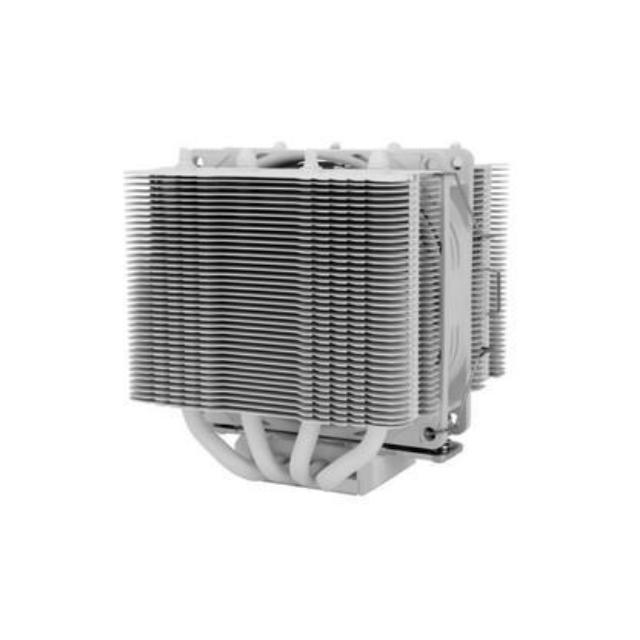CPU_Fan: (126, 147, 506, 495)
